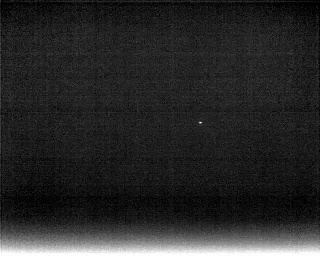AIRPLANE: (197, 118, 204, 127)
